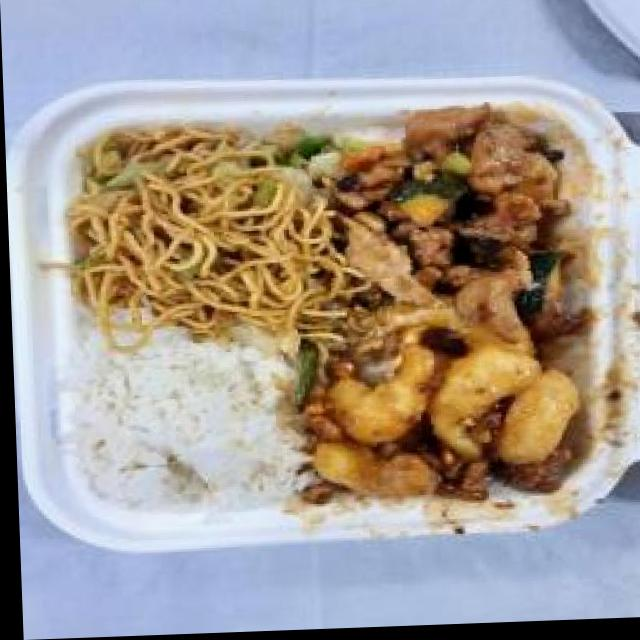Chow Mein: (52, 115, 348, 347)
Honey Walnut Shrimp: (282, 303, 583, 515)
Kung Pao Chicken: (328, 103, 588, 321)
White Steamed Rice: (50, 321, 315, 519)
